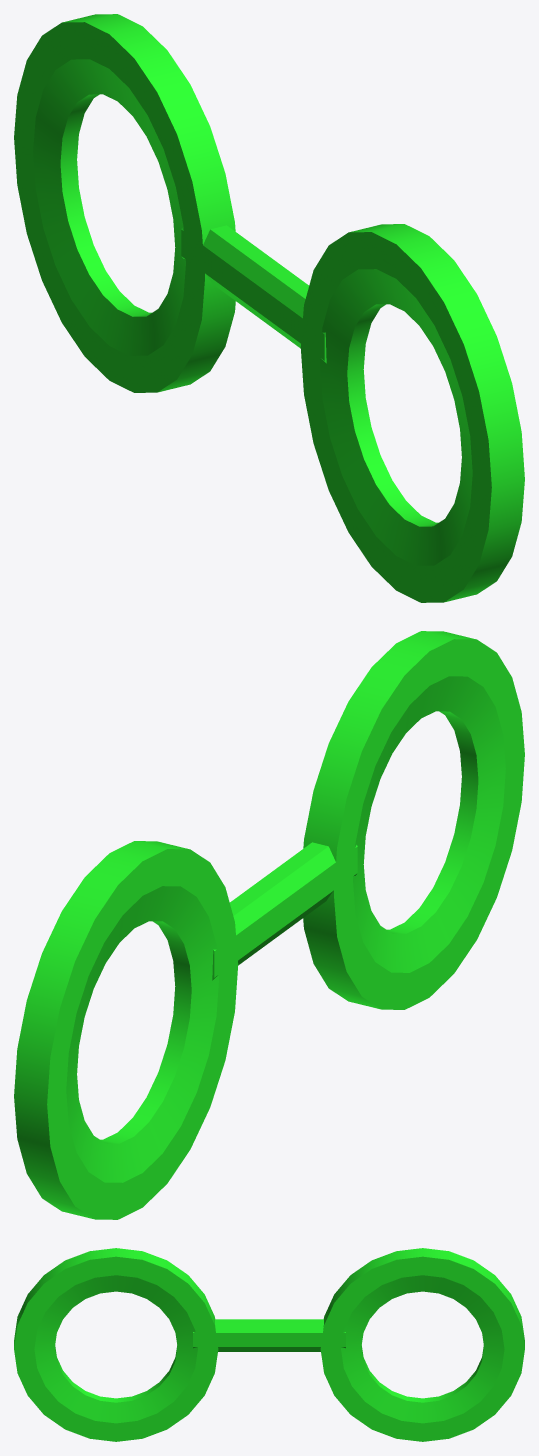
File: Glasses.fbx
The picture shows the model from 3 angles, top to bottom: view 1: azimuth 30°, elevation 25°; view 2: azimuth 150°, elevation 25°; view 3: azimuth 270°, elevation 25°; orthographic projection. The views are drawn at different scales.
Visible parts, largest first — view 1: mergedBlocks; view 2: mergedBlocks; view 3: mergedBlocks.
Boxes of the visible parts, x1,y1,x2,y2 form: mergedBlocks: (14, 14, 524, 602); mergedBlocks: (14, 631, 524, 1219); mergedBlocks: (14, 1248, 524, 1441).
Size of the model in its own units: 0.4 by 4 by 10.
